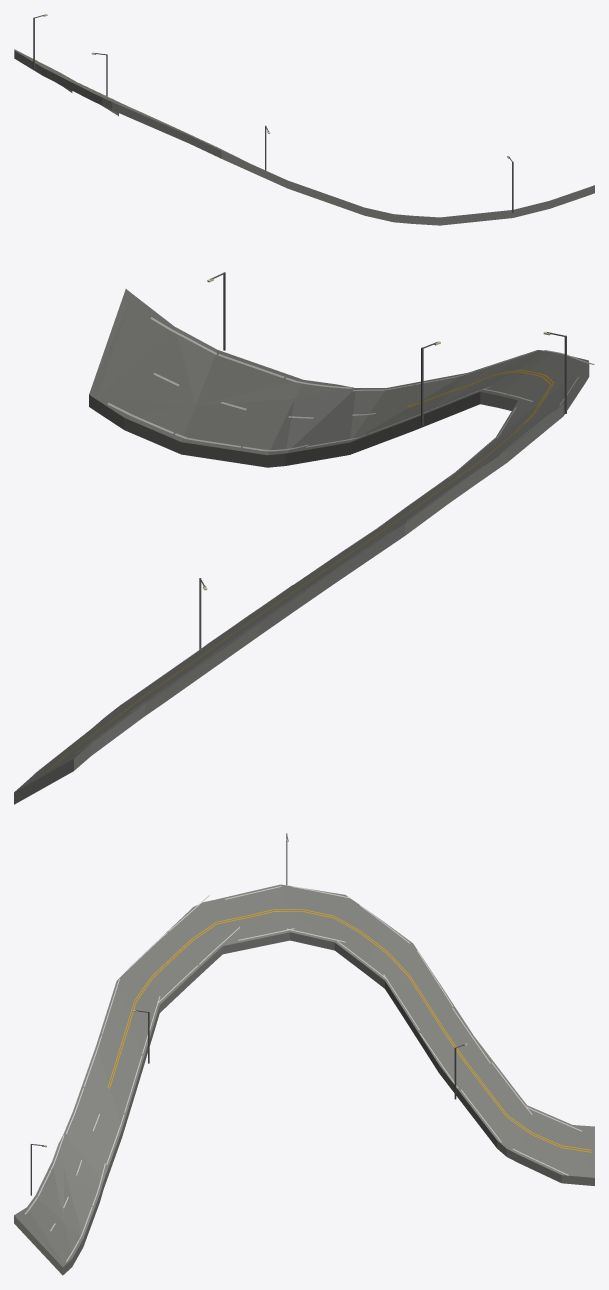
3 renders of one model, top to bottom at view 1: azimuth 30°, elevation 25°; view 2: azimuth 150°, elevation 25°; view 3: azimuth 270°, elevation 25°, orthographic. The views are drawn at different scales.
Bounding box in the file's own units: 65.37 × 36.37 × 76.78.
